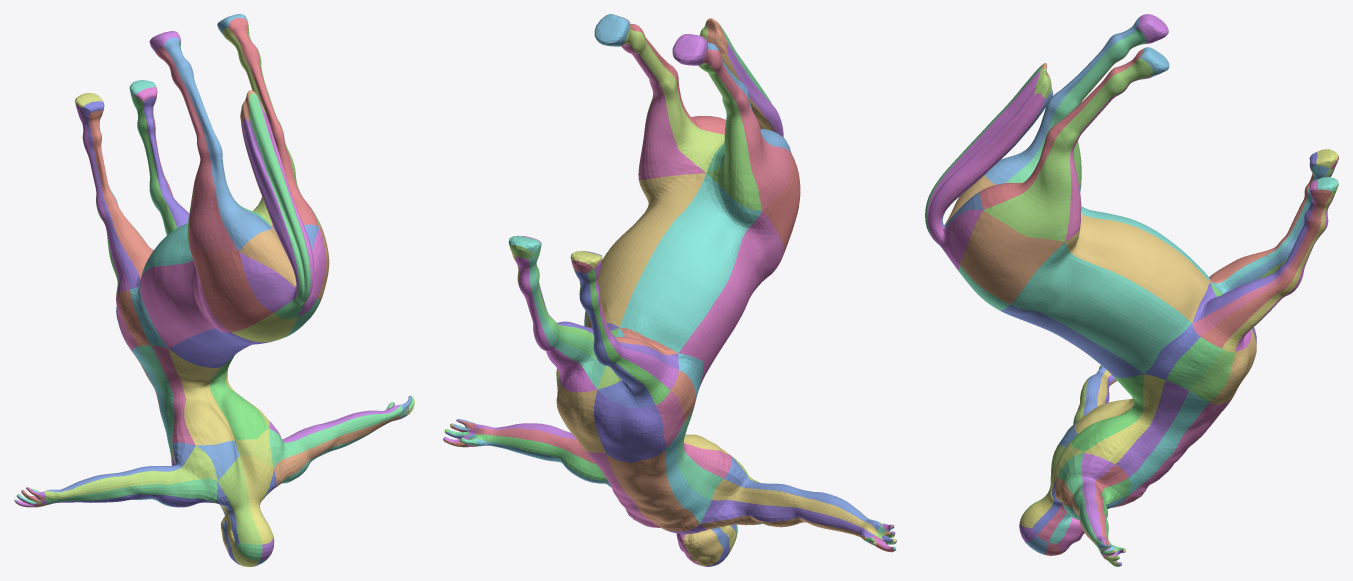
Rendered from 13_centaur_output.obj.
The picture shows the model from 3 angles, left to right: view 1: azimuth 30°, elevation 25°; view 2: azimuth 150°, elevation 25°; view 3: azimuth 270°, elevation 25°; orthographic projection. The views are drawn at different scales.
Size of the model in its own units: 170 by 206 by 149.
